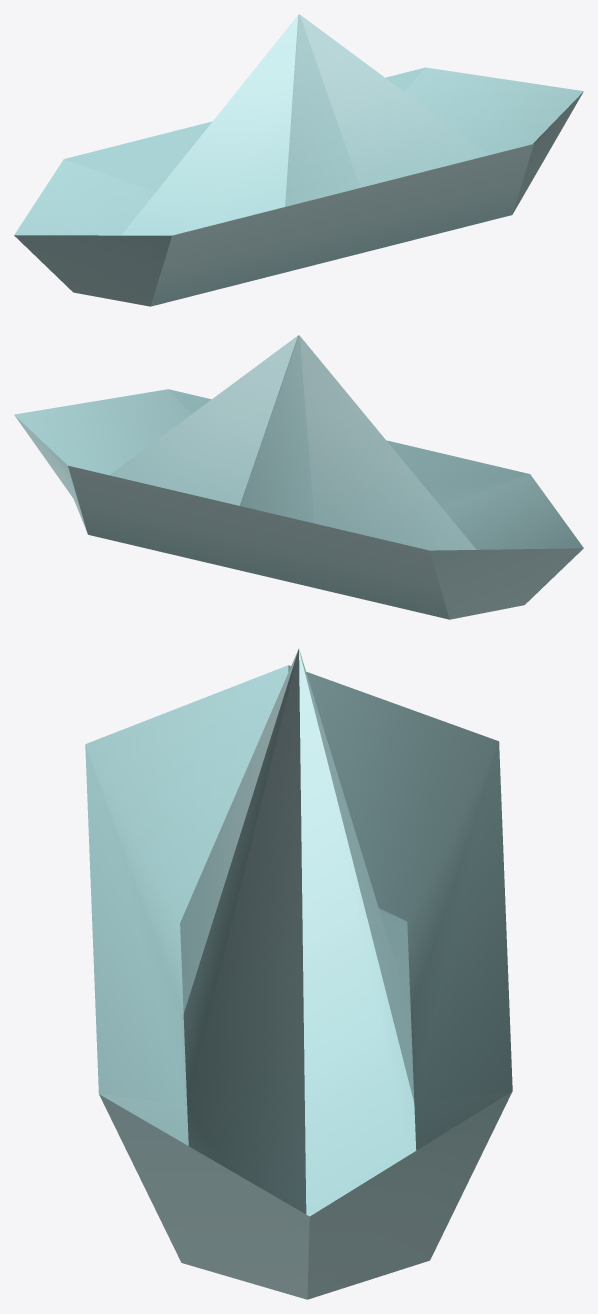
The model's file is paper boat.fbx.
3 views of the same model, one above another, from view 1: azimuth 30°, elevation 25°; view 2: azimuth 150°, elevation 25°; view 3: azimuth 270°, elevation 25° (orthographic). The views are drawn at different scales.
Visible parts, largest first — view 1: paper_boat; view 2: paper_boat; view 3: paper_boat.
Boxes of the visible parts, x1=… form: paper_boat: x1=14, y1=14, x2=583, y2=306; paper_boat: x1=14, y1=335, x2=583, y2=619; paper_boat: x1=85, y1=649, x2=512, y2=1299.
Bounding box in the file's own units: 176 × 65.32 × 57.73.
